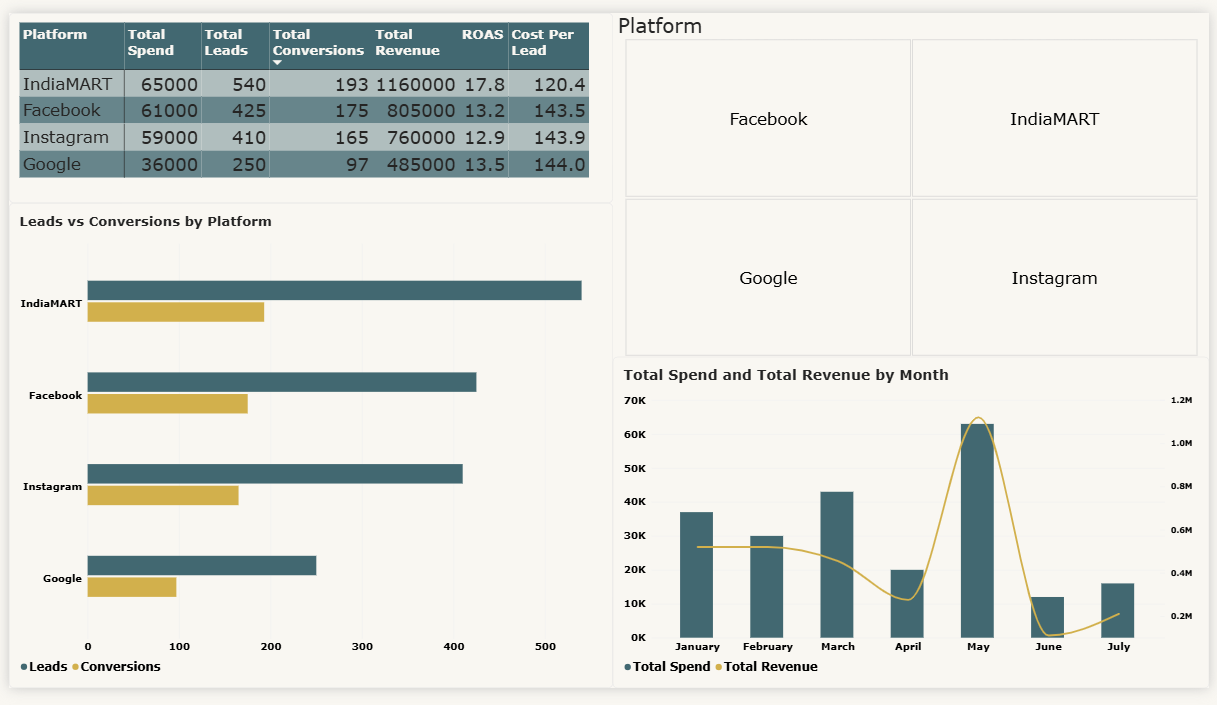

What the dashboard file says about the page in this screenshot:
{"tool":"powerbi","page":{"name":"Platform Deep Dive","canvas":[1920,1080],"ordinal":1},"visuals":[{"type":"pivotTable","fields":{"Rows":["campaigns.platform"],"Values":["campaigns.Total Spend","campaigns.Total Leads","campaigns.Total Conversions","campaigns.Total Revenue","campaigns.ROAS","campaigns.Cost Per Lead"]},"box":[0,0,966,304],"z":0},{"type":"clusteredBarChart","title":"Leads vs Conversions by Platform","fields":{"Category":["campaigns.platform"],"Y":["Sum(campaigns.leads)","Sum(campaigns.conversions)"]},"box":[0,304,966,776],"z":1000},{"type":"lineClusteredColumnComboChart","fields":{"Category":["campaigns.start_date.Variation.Date Hierarchy.Month"],"Y":["campaigns.Total Spend"],"Y2":["campaigns.Total Revenue"]},"box":[966,550,954,530],"z":2000},{"type":"slicer","fields":{"Values":["campaigns.platform"]},"box":[966,0,954,550],"z":3000}]}

Visuals, with their boxes in screenshot pixels (x1, y1, x2, y2), scaled from the page's 1920x1080 canvas onto the 1217x705 screenshot:
pivotTable - campaigns.platform x campaigns.Total Spend: pyautogui.locateOnScreen(0, 0, 612, 198)
"Leads vs Conversions by Platform" clusteredBarChart: pyautogui.locateOnScreen(0, 198, 612, 704)
lineClusteredColumnComboChart - campaigns.start_date.Variation.Date Hierarchy.Month x campaigns.Total Spend: pyautogui.locateOnScreen(612, 359, 1216, 704)
slicer - campaigns.platform: pyautogui.locateOnScreen(612, 0, 1216, 359)
